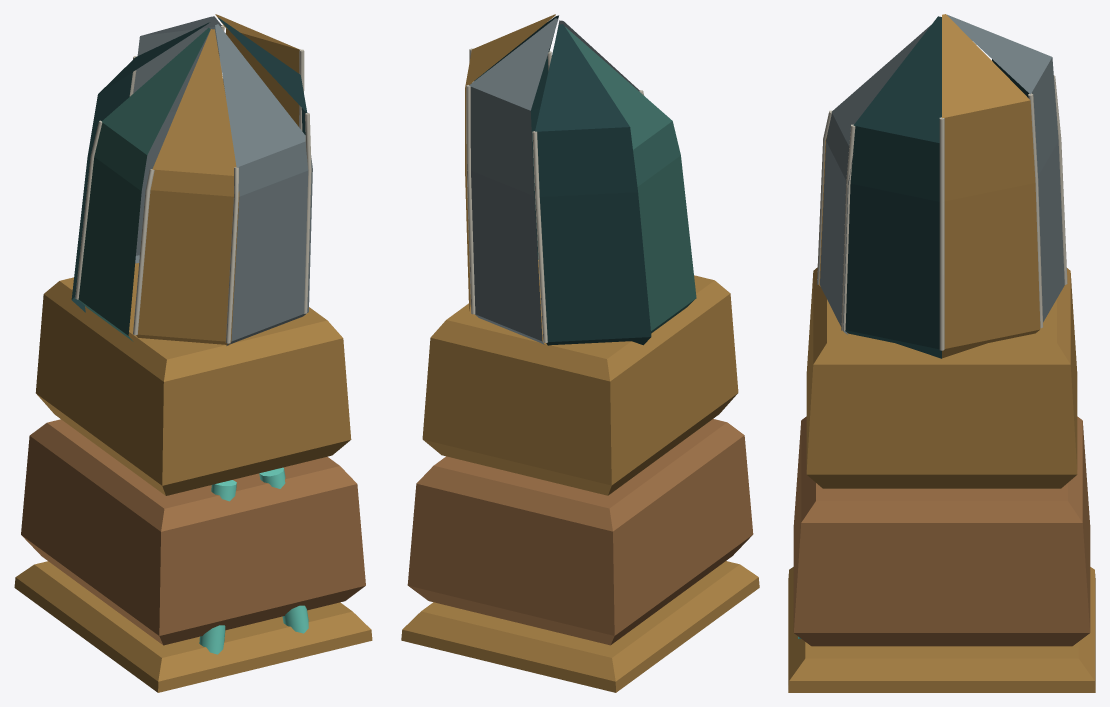
File: wreck_kharon_2.glb
The picture shows the model from 3 angles, left to right: view 1: azimuth 30°, elevation 25°; view 2: azimuth 150°, elevation 25°; view 3: azimuth 270°, elevation 25°; orthographic projection. The views are drawn at different scales.
Parts seen in each view (by area): view 1: wreck_kharon_2; view 2: wreck_kharon_2; view 3: wreck_kharon_2.
Boxes of the visible parts, <box> form: wreck_kharon_2: <box>14,14,372,692</box>; wreck_kharon_2: <box>401,14,759,692</box>; wreck_kharon_2: <box>788,14,1095,692</box>.
Bounding box in the file's own units: 1.48 × 3.84 × 1.68.
